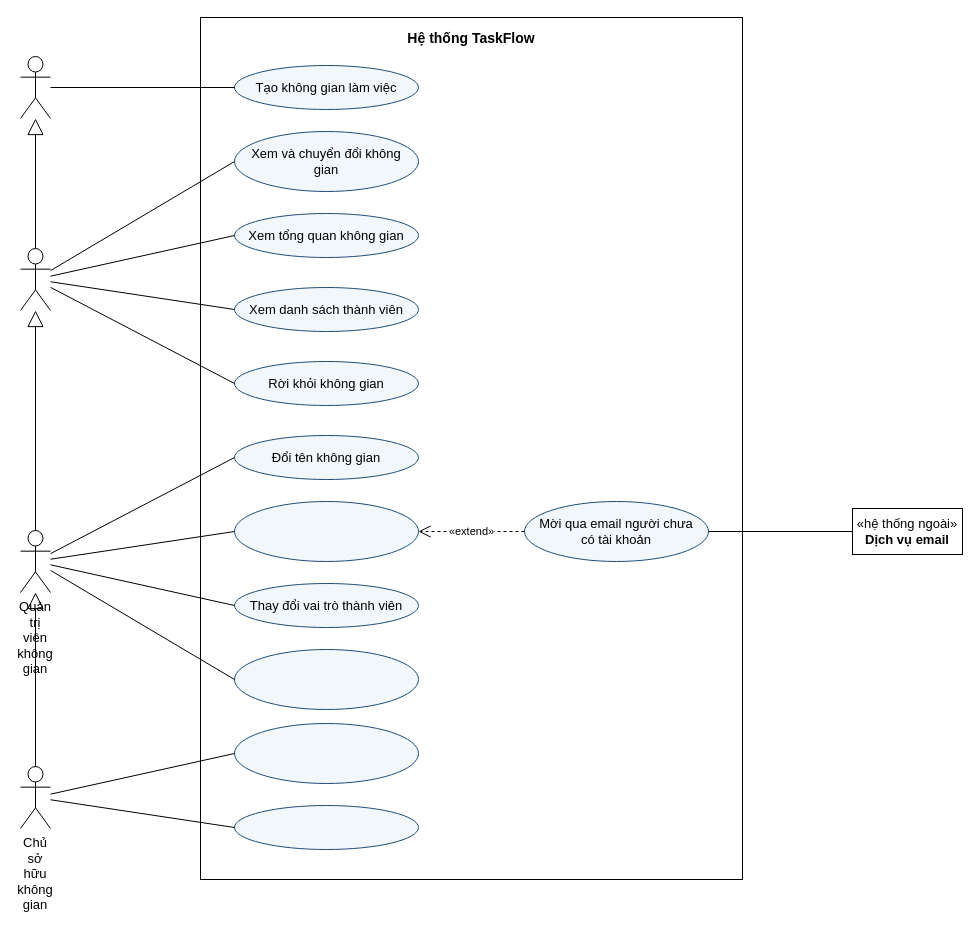
Image size: 980x931. Some labels were removed from this diagram. The shapes that lost their labels are listed below. From the top down, each one's box as (x1, y1, x2, y2) in pixels, then its label:
(20, 56, 50, 118): Người dùng
(20, 248, 50, 310): Thành viên không gian
(234, 500, 418, 562): Thêm thành viên vào không gian
(234, 648, 418, 710): Xoá thành viên khỏi không gian
(234, 722, 418, 784): Chuyển quyền sở hữu không gian
(234, 804, 418, 850): Xoá không gian làm việc
